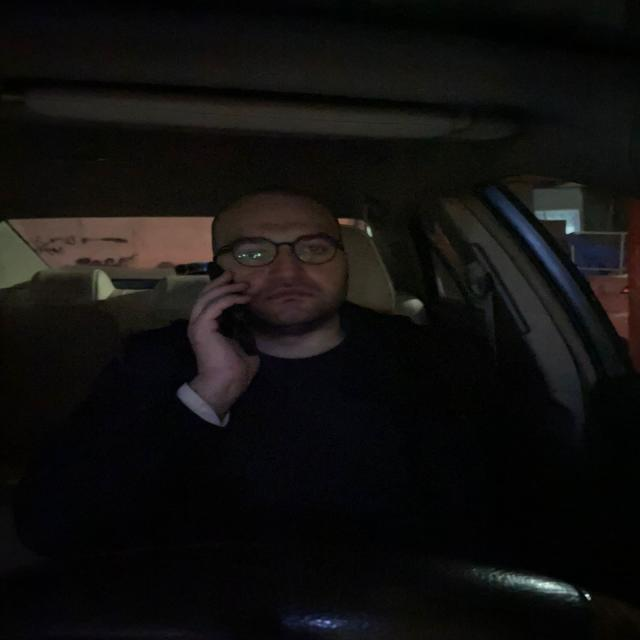phone: (200, 259, 256, 354)
